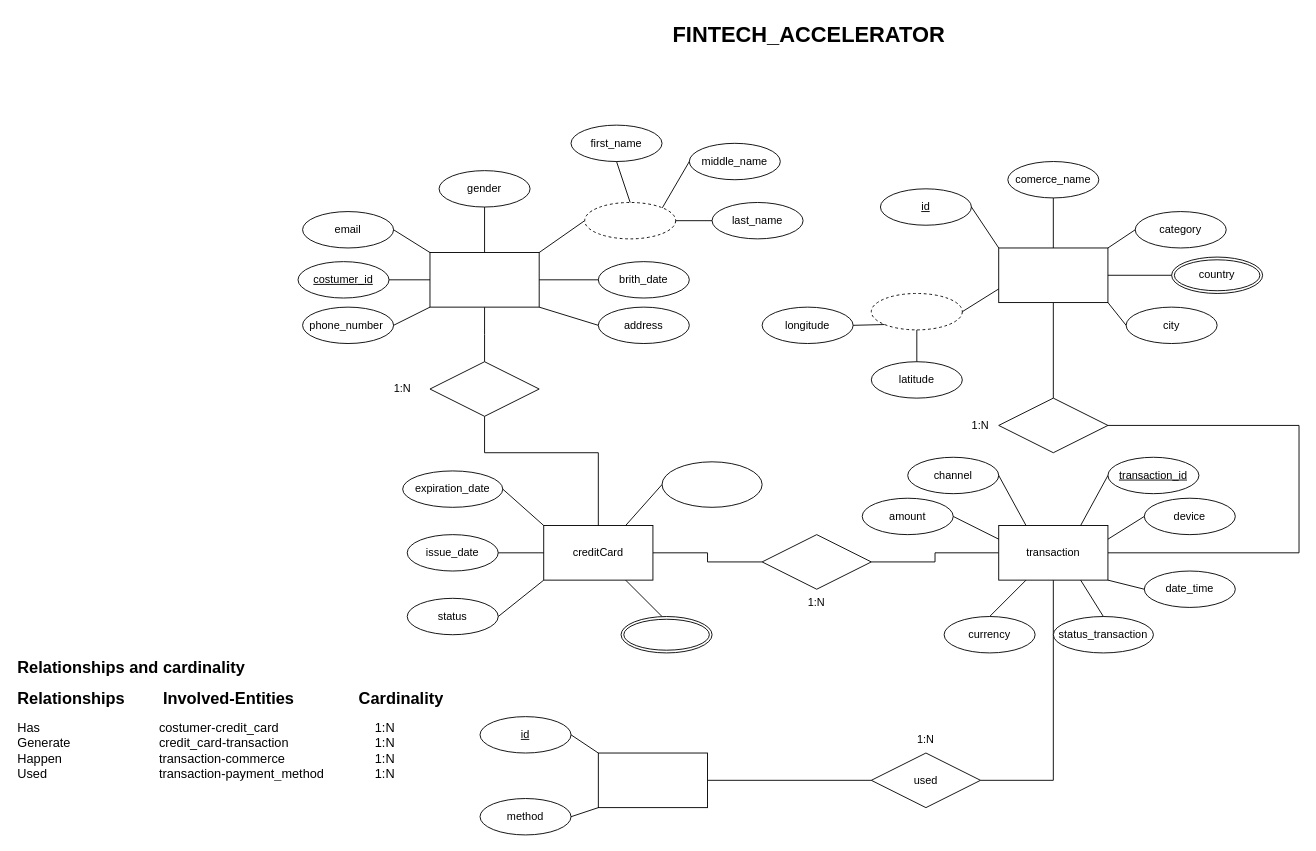
This 1316x851 diagram has some shape labels left out. Here are the shapes that lost their labels. From the top down, the centre of each, then its label:
At (x=630, y=220): "full_name".
At (x=484, y=279): "customer".
At (x=1053, y=275): "commerce".
At (x=916, y=311): "geographic_ coordinates".
At (x=484, y=388): "has".
At (x=1053, y=425): "happen".
At (x=711, y=484): "card_number".
At (x=816, y=561): "Generate".
At (x=666, y=634): "franchise".
At (x=652, y=780): "payment_method".
